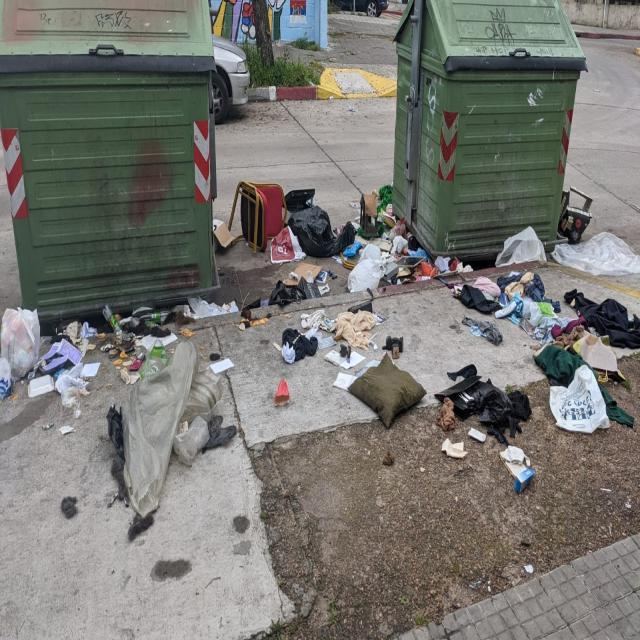garbage: (430, 188, 640, 362), (104, 300, 240, 538), (212, 174, 429, 312), (430, 361, 640, 496), (270, 314, 428, 451), (0, 305, 101, 402)
